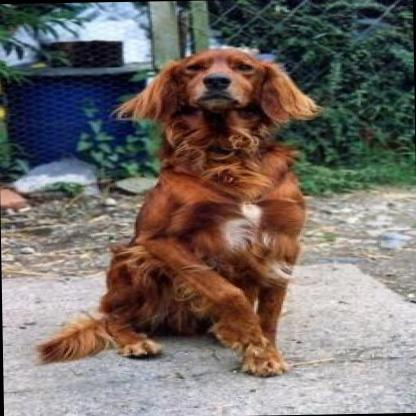Irish_setter: (28, 44, 320, 380)
